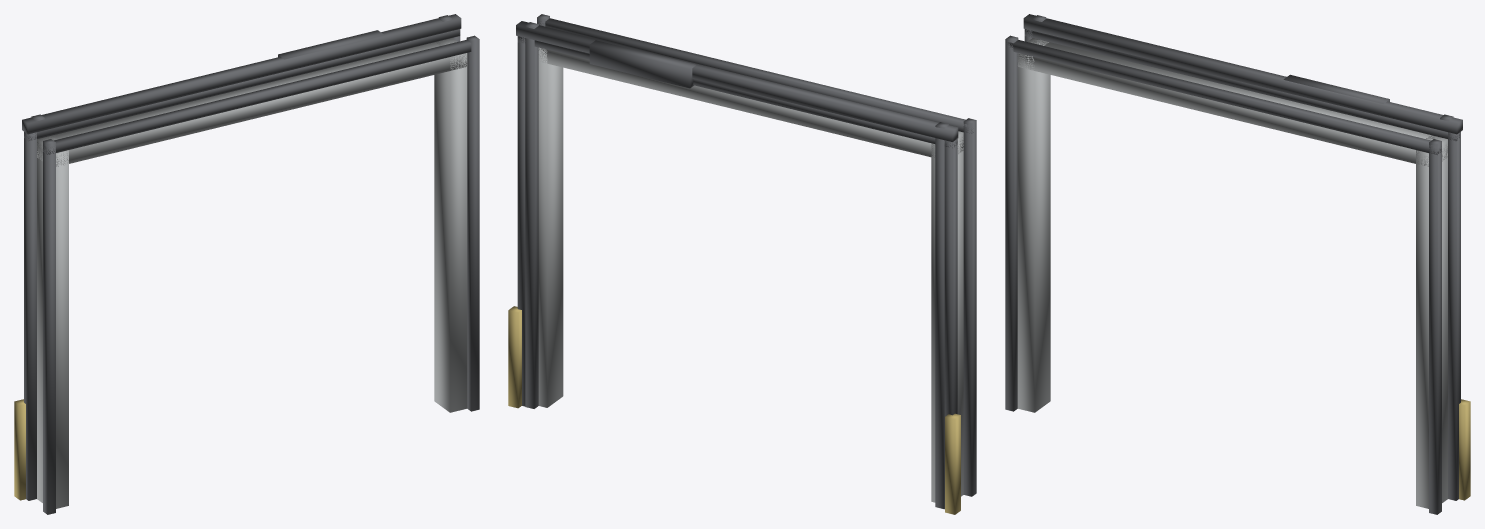
The model's file is bay_opening_loading_bay_w420_h360_d30.glb.
3 views of the same model, side by side, from view 1: azimuth 30°, elevation 25°; view 2: azimuth 150°, elevation 25°; view 3: azimuth 330°, elevation 25° (orthographic).
Visible parts, largest first — view 1: world; view 2: world; view 3: world.
Boxes of the visible parts, bbox=[...] form: world: bbox=[14, 14, 479, 514]; world: bbox=[508, 14, 976, 514]; world: bbox=[1005, 14, 1470, 514].
Size of the model in its own units: 4.89 by 3.99 by 0.522.
